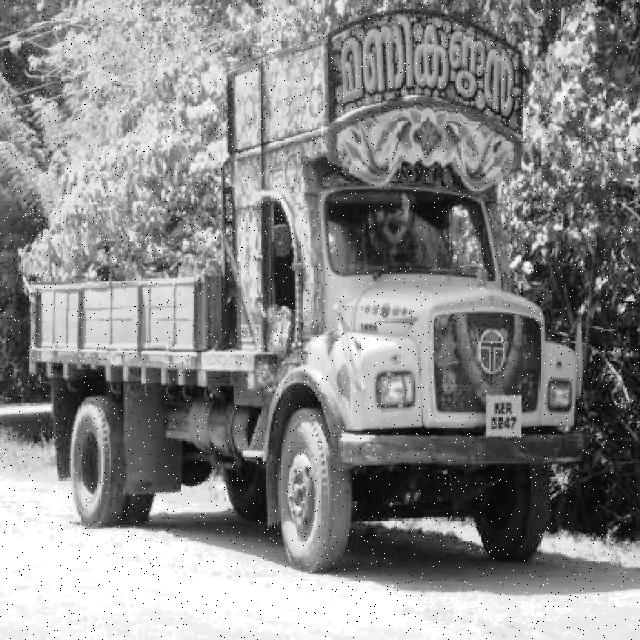HCV: (41, 54, 567, 554)
